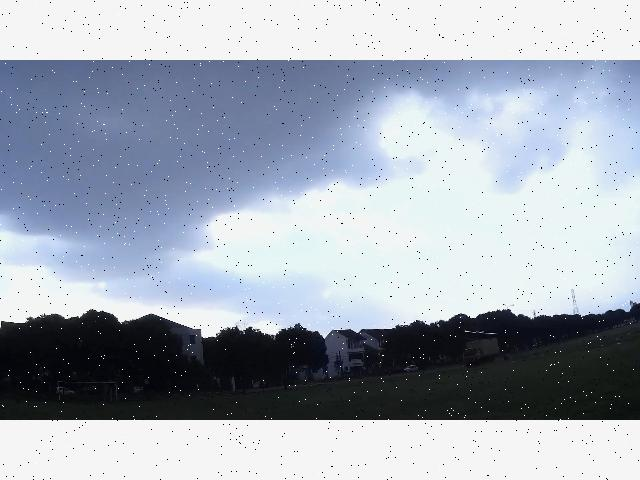Anti-Drone: (460, 325, 508, 343)
